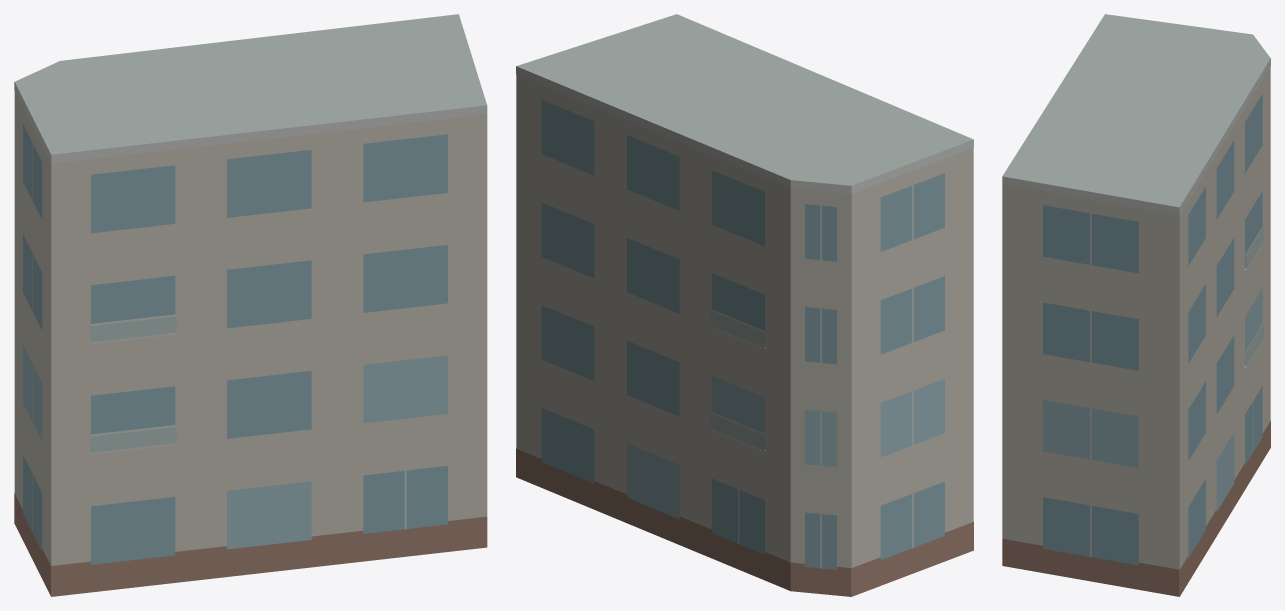
File: survey-upis-32756259.glb
The picture shows the model from 3 angles, left to right: view 1: azimuth 30°, elevation 25°; view 2: azimuth 150°, elevation 25°; view 3: azimuth 270°, elevation 25°; orthographic projection. The views are drawn at different scales.
Visible parts, largest first — view 1: survey-upis-32756259.tmp; view 2: survey-upis-32756259.tmp; view 3: survey-upis-32756259.tmp.
Part boxes in pixels (x1,y1,x2,y2): survey-upis-32756259.tmp: [14, 14, 487, 596]; survey-upis-32756259.tmp: [516, 14, 973, 596]; survey-upis-32756259.tmp: [1002, 14, 1270, 596].
Bounding box in the file's own units: 12.9 × 12.1 × 7.57.
